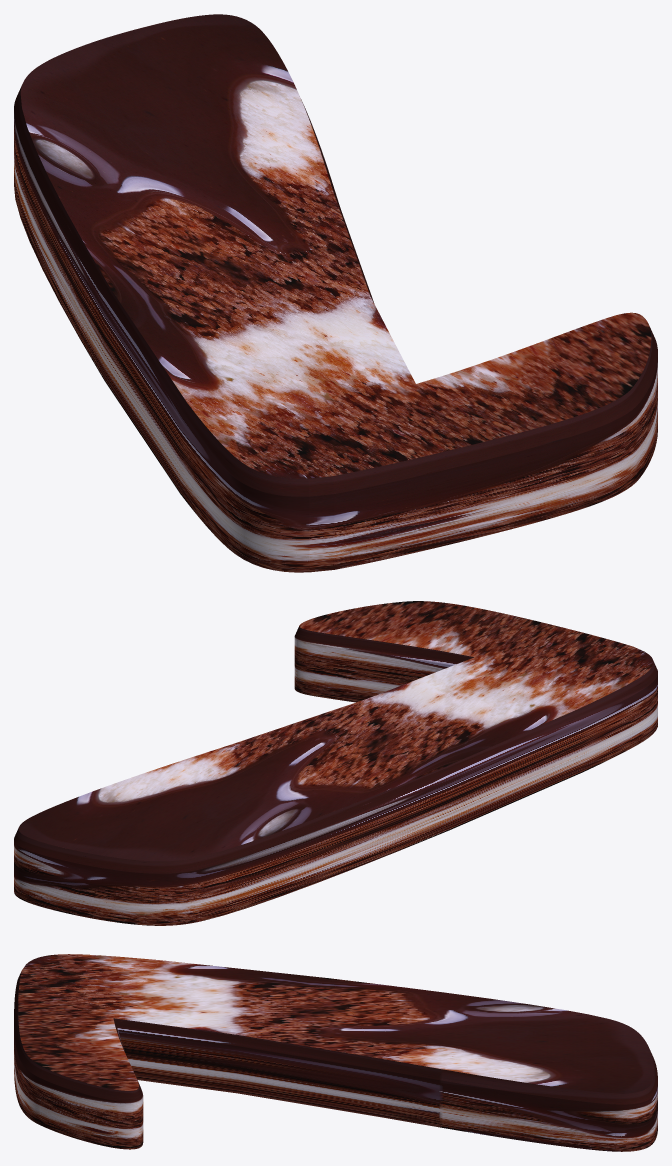
File: myL.FBX
3 views of the same model, one above another, from view 1: azimuth 30°, elevation 25°; view 2: azimuth 150°, elevation 25°; view 3: azimuth 270°, elevation 25° (orthographic). The views are drawn at different scales.
Visible parts, largest first — view 1: myB; view 2: myB; view 3: myB.
Part boxes in pixels (box(x1,y1,x2,y2)): myB: box(14, 14, 657, 572); myB: box(14, 601, 657, 925); myB: box(14, 954, 657, 1151).
Bounding box in the file's own units: 32.43 × 6 × 61.8.
1 material, 1 textured.
